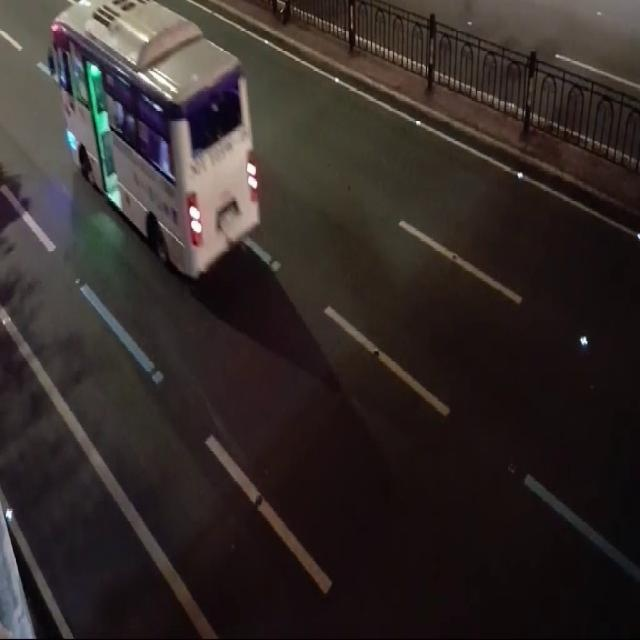jeepney: (44, 0, 273, 297)
